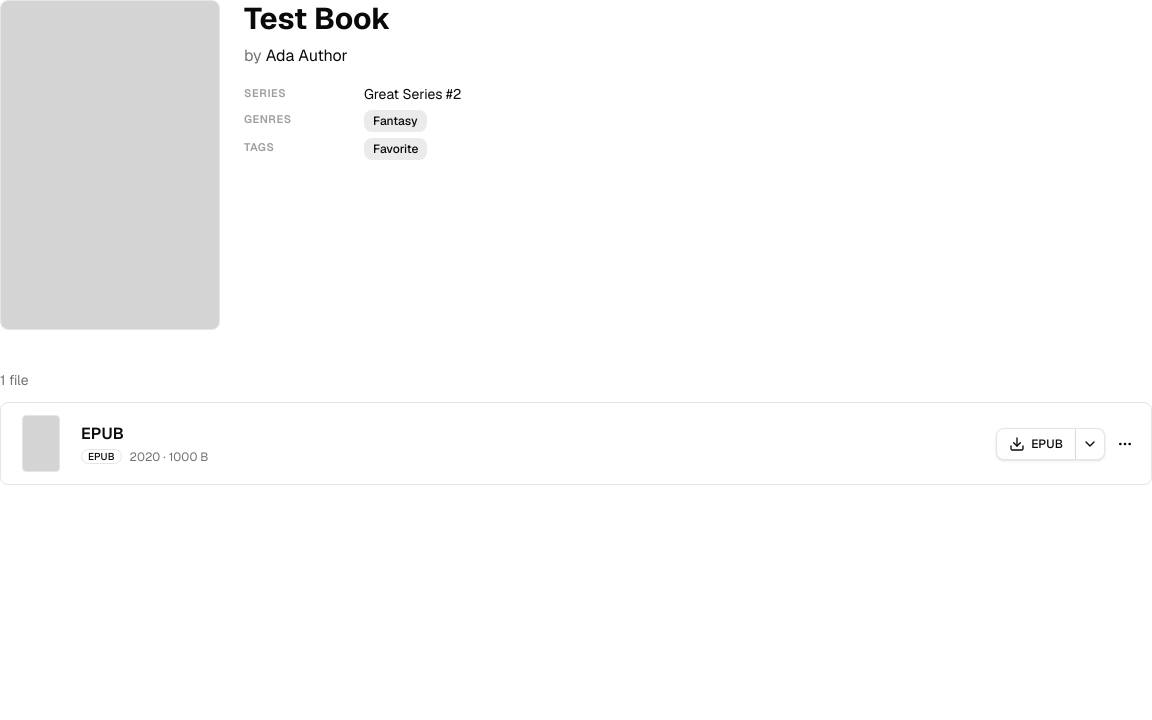
Scenario: BookDetailBody in Share Link context › reports the API's message when a download fails
Click the button with aria-label "Download EPUB" at (1036,444), box [996,428,1076,460]
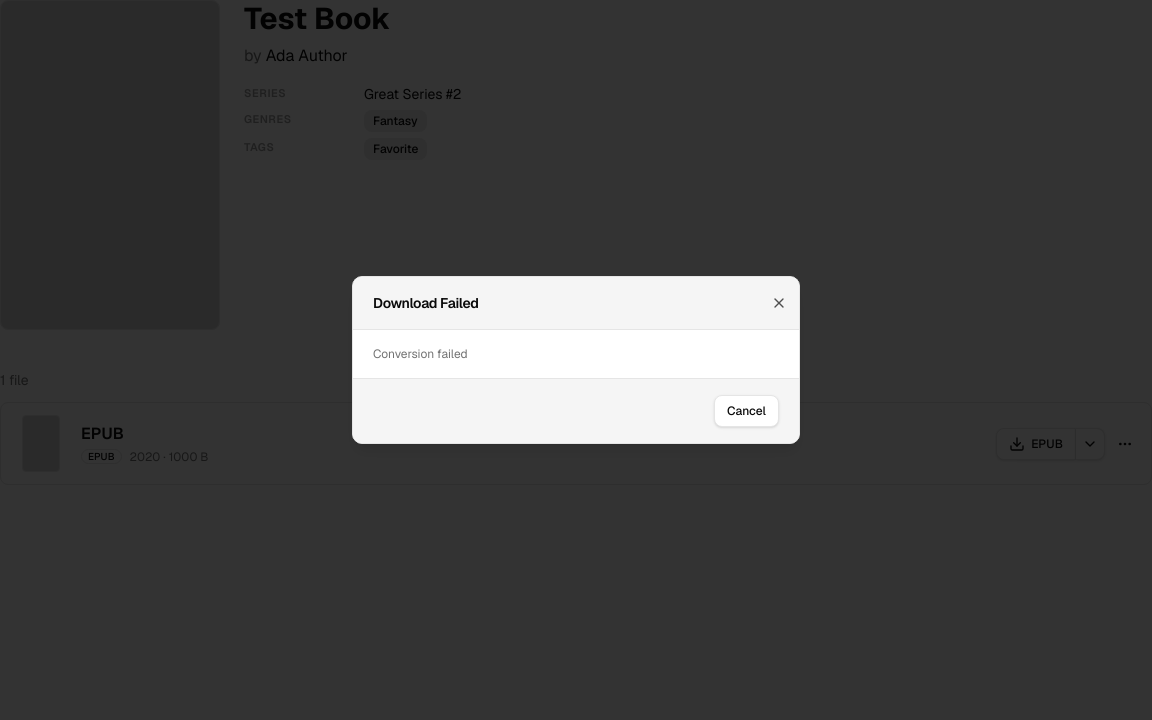
expect the text "Conversion failed" is shown: met, box [373,346,468,362]
